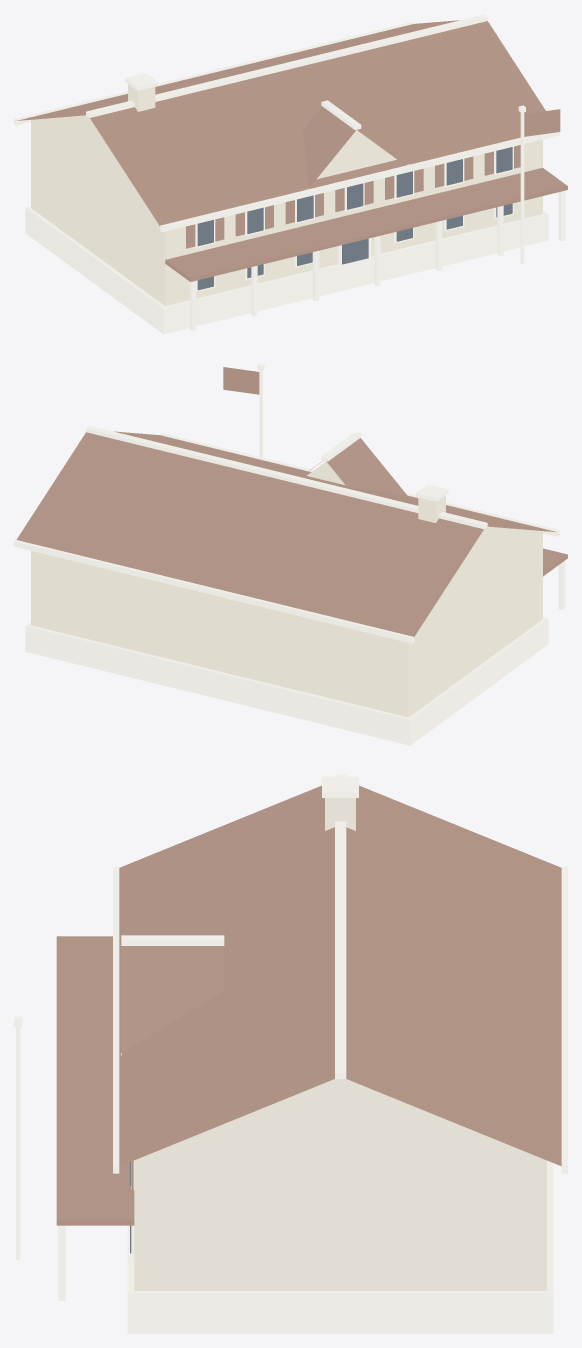
Rendered from Blender_Clubhouse_farmhouse.glb.
The picture shows the model from 3 angles, top to bottom: view 1: azimuth 30°, elevation 25°; view 2: azimuth 150°, elevation 25°; view 3: azimuth 270°, elevation 25°; orthographic projection. The views are drawn at different scales.
Parts seen in each view (by area): view 1: Blender_Clubhouse_farmhouse; view 2: Blender_Clubhouse_farmhouse; view 3: Blender_Clubhouse_farmhouse.
Part boxes in pixels (box(x1,y1,x2,y2)): Blender_Clubhouse_farmhouse: box(14, 14, 567, 334); Blender_Clubhouse_farmhouse: box(14, 363, 567, 745); Blender_Clubhouse_farmhouse: box(14, 774, 567, 1333).
Bounding box in the file's own units: 27.4 × 12.65 × 21.48.
